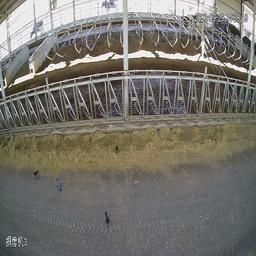cow: (181, 12, 202, 39), (214, 15, 227, 43), (228, 21, 240, 39)
